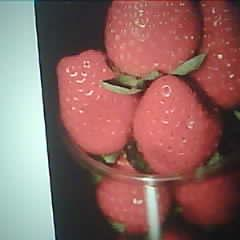straw-ripe: (134, 76, 219, 175)
